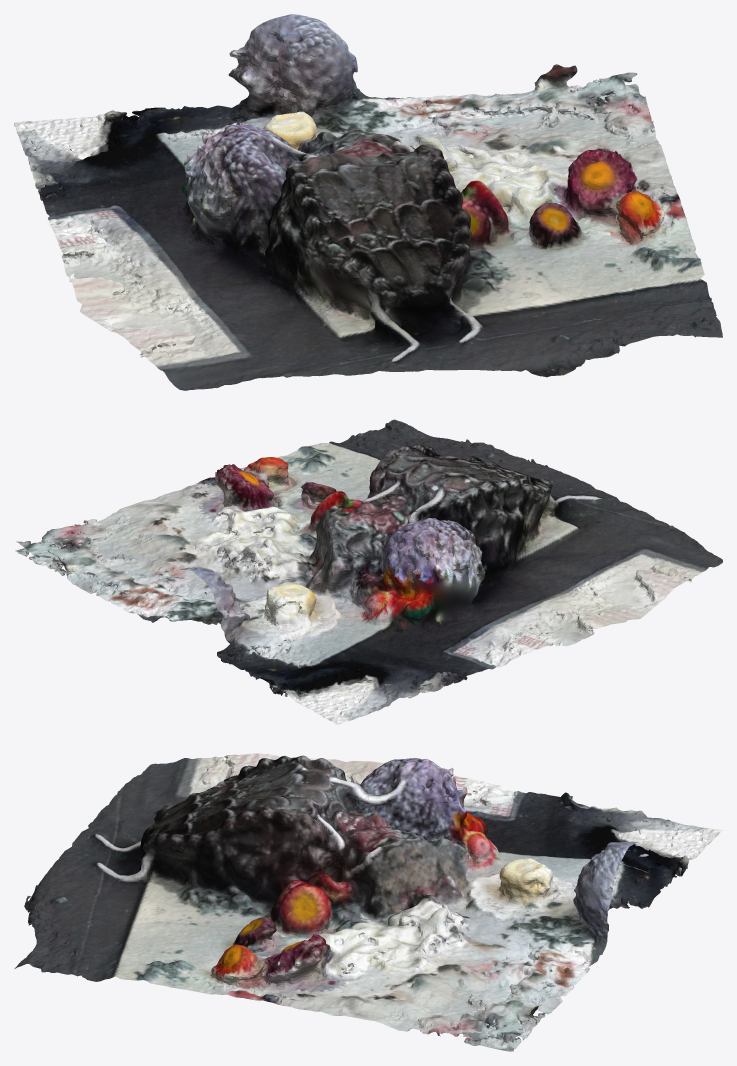
Rendered from dark-forest-dragon.glb.
3 views of the same model, one above another, from view 1: azimuth 30°, elevation 25°; view 2: azimuth 150°, elevation 25°; view 3: azimuth 270°, elevation 25° (orthographic). The views are drawn at different scales.
Size of the model in its own units: 0.6035 by 0.1024 by 0.6291.
1 material, 1 textured.
